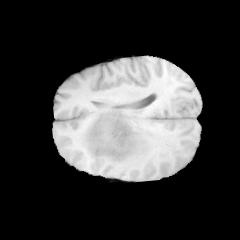glioma: (78, 109, 144, 163)
